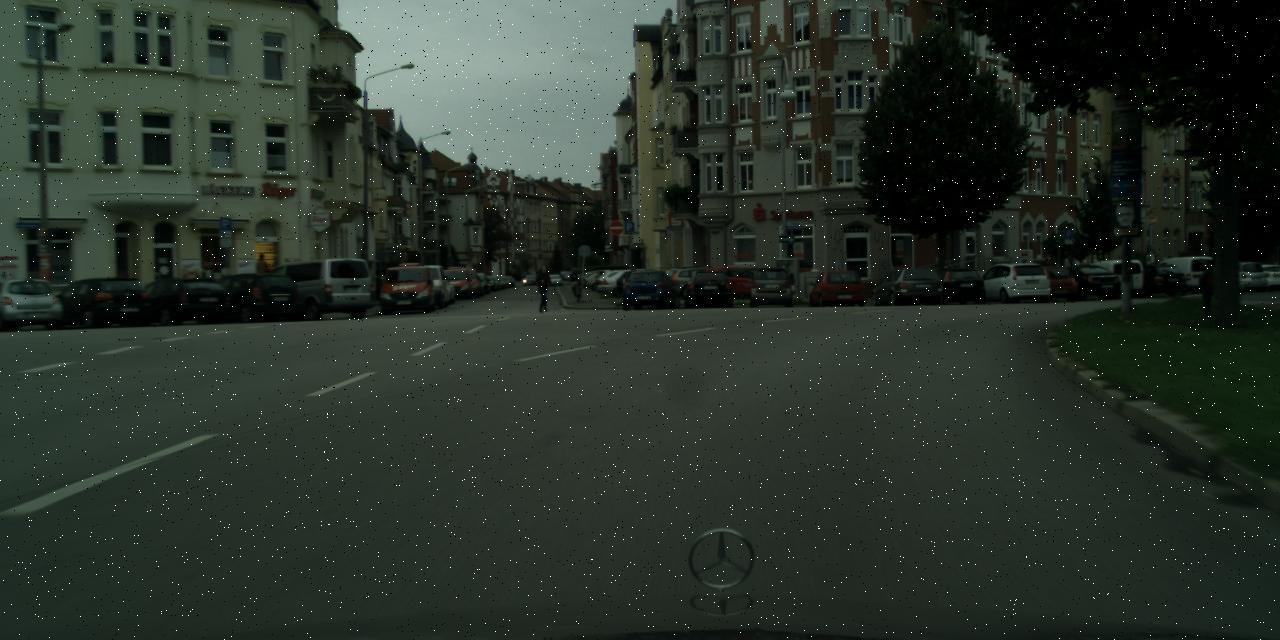ped: (1202, 260, 1223, 314), (534, 265, 554, 311), (253, 254, 269, 294), (568, 268, 582, 303), (629, 266, 641, 299)
